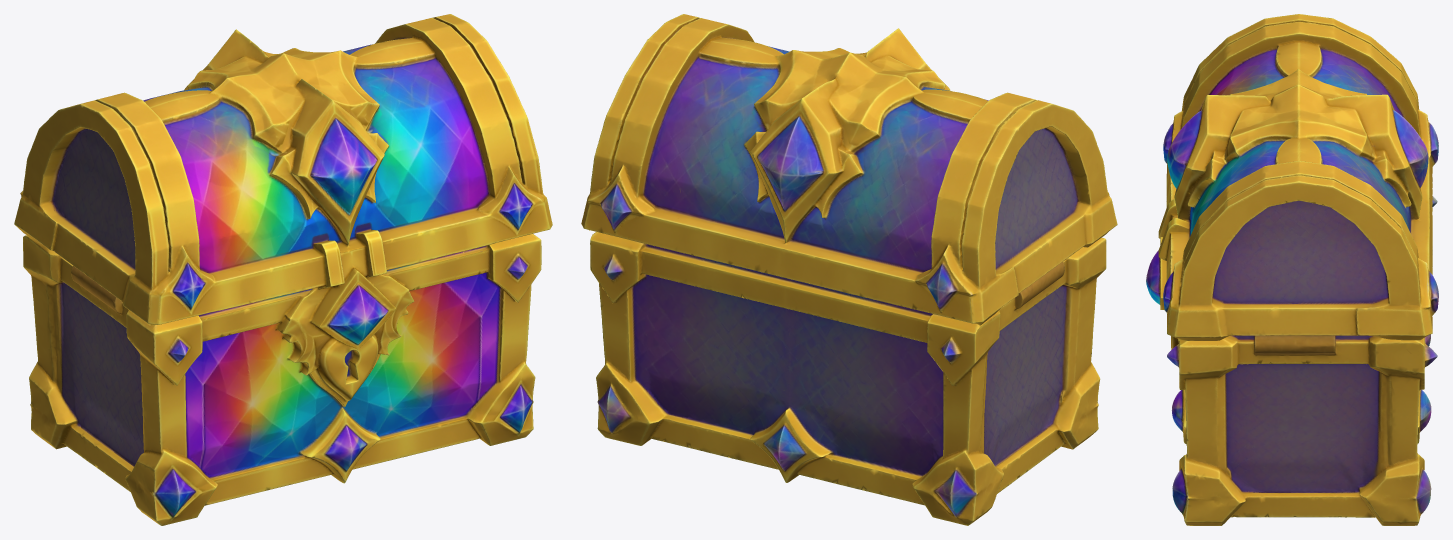
The model's file is ガチャ箱3D.glb.
3 views of the same model, side by side, from view 1: azimuth 30°, elevation 25°; view 2: azimuth 150°, elevation 25°; view 3: azimuth 270°, elevation 25° (orthographic). The views are drawn at different scales.
Size of the model in its own units: 1.9 by 1.73 by 1.28.
1 material, 1 textured.
